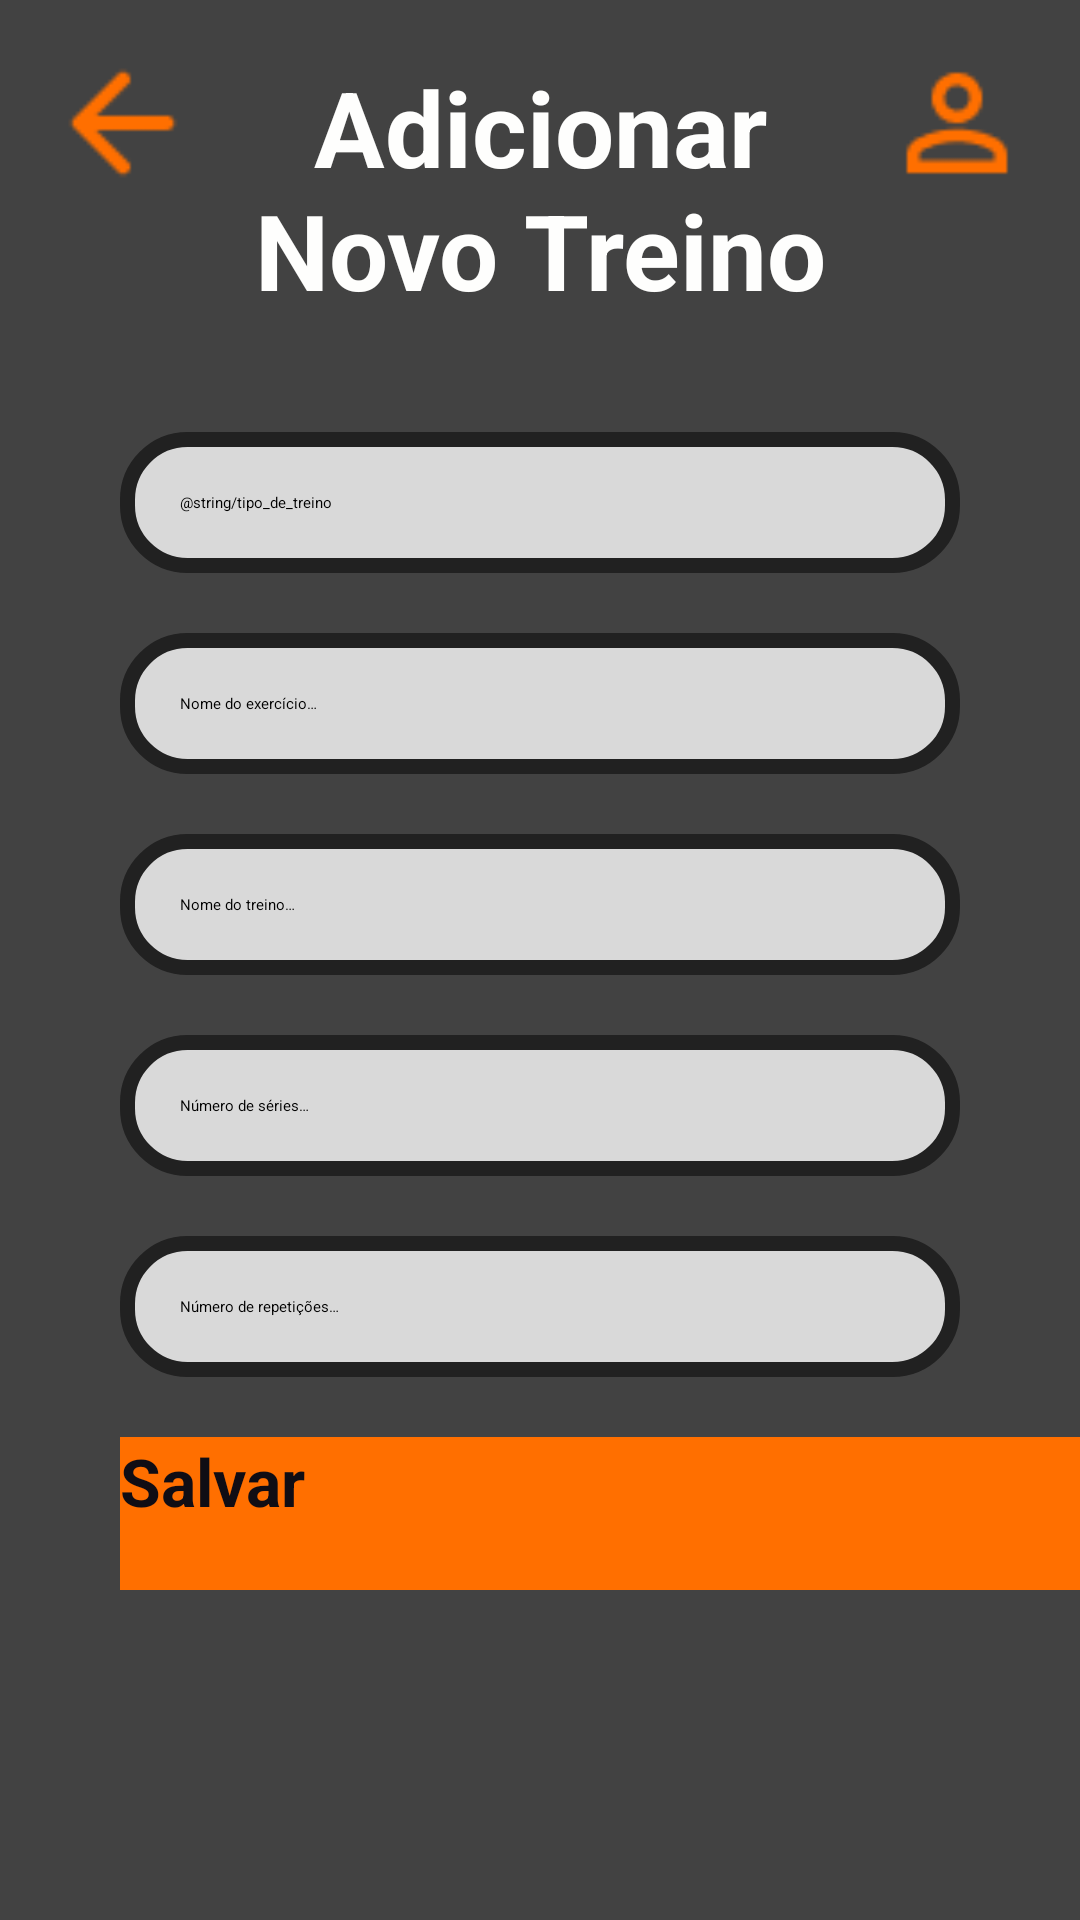

Screen size 1080x1920. Icon name, then its box in pixels as {"x1": x1, "y1": y1, "x2": x2, "y2": y2}:
person: {"x1": 906, "y1": 72, "x2": 1008, "y2": 174}
Voltar para tela anterior: {"x1": 70, "y1": 70, "x2": 176, "y2": 176}
